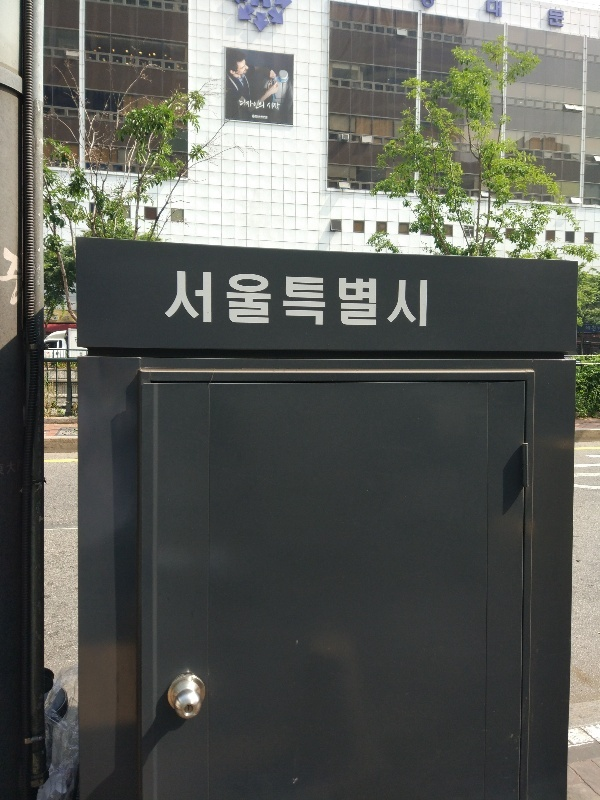text: (1, 242, 16, 316), (177, 267, 192, 327), (193, 267, 208, 327), (209, 267, 224, 327), (225, 267, 240, 327), (241, 267, 256, 327), (257, 267, 272, 327), (289, 273, 304, 330), (305, 273, 320, 330), (321, 273, 336, 330), (337, 273, 352, 330), (353, 273, 368, 330), (369, 273, 384, 330), (385, 273, 400, 330), (401, 273, 416, 330), (417, 273, 429, 330), (17, 242, 22, 316), (171, 267, 176, 327), (283, 273, 288, 330), (17, 456, 32, 475), (1, 462, 16, 478), (549, 9, 560, 29), (241, 97, 256, 110), (487, 1, 496, 19), (275, 1, 288, 13), (7, 460, 16, 476), (422, 1, 432, 12), (257, 97, 265, 110), (497, 1, 502, 19), (54, 313, 64, 321), (273, 101, 281, 111), (262, 1, 272, 8), (593, 324, 600, 333), (52, 316, 64, 321), (289, 1, 294, 13), (561, 9, 564, 29), (586, 324, 592, 333), (65, 320, 80, 323), (257, 115, 268, 119), (250, 1, 256, 8), (52, 352, 64, 355), (44, 312, 48, 320), (75, 339, 80, 345), (269, 101, 272, 111), (583, 323, 592, 326), (65, 315, 70, 320), (235, 1, 240, 6), (433, 1, 435, 12), (257, 1, 260, 8), (60, 315, 64, 320), (44, 351, 48, 356), (239, 97, 240, 110), (75, 337, 80, 339), (241, 1, 242, 6), (255, 115, 256, 119)
